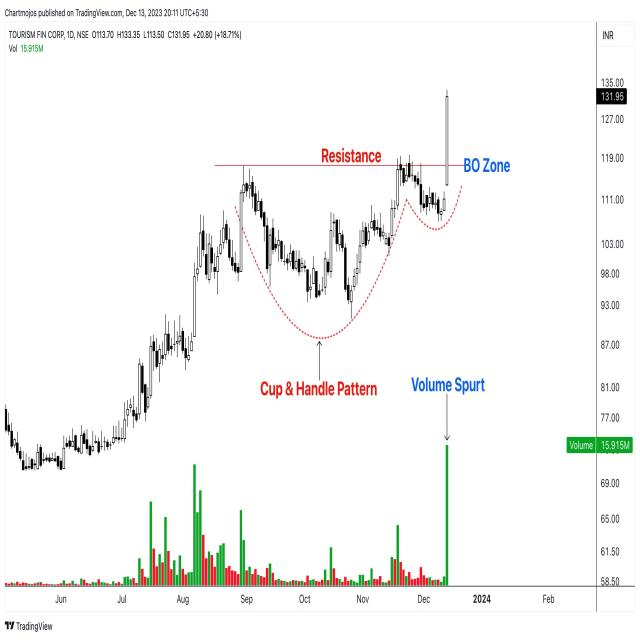Cup-and-handle: (240, 160, 462, 302)
